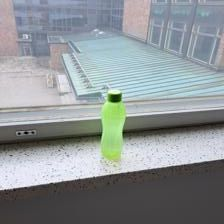bottle: (96, 86, 127, 160)
